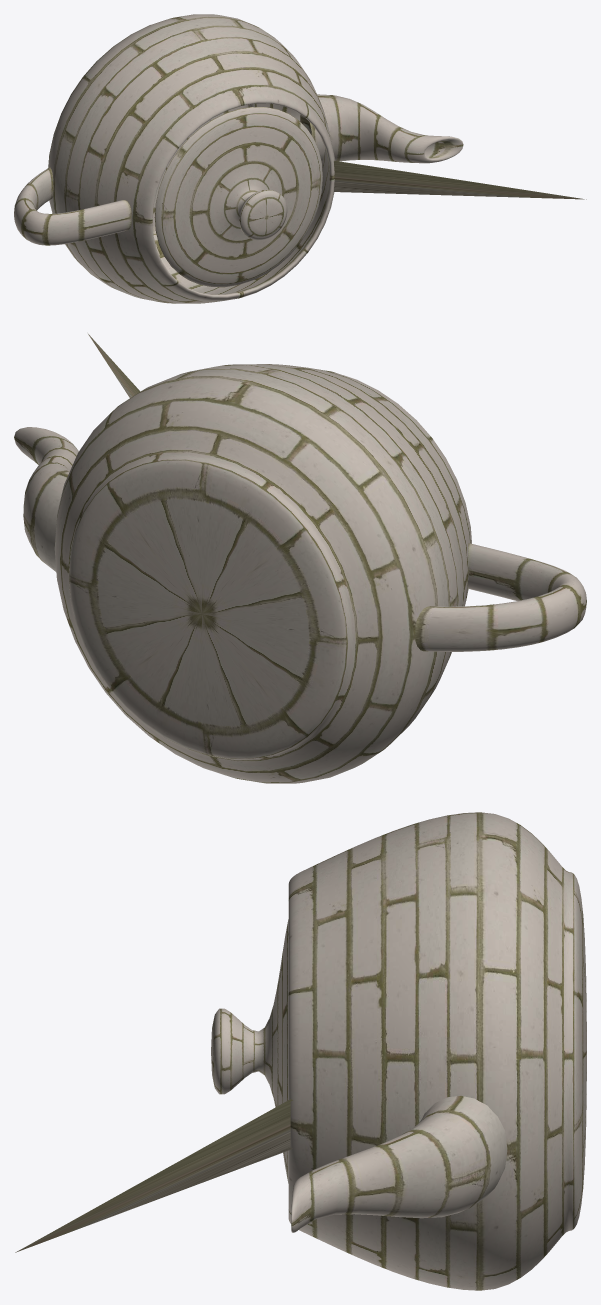
The model's file is teapot2.obj.
The picture shows the model from 3 angles, top to bottom: view 1: azimuth 30°, elevation 25°; view 2: azimuth 150°, elevation 25°; view 3: azimuth 270°, elevation 25°; orthographic projection. The views are drawn at different scales.
Parts seen in each view (by area): view 1: Teapot001; view 2: Teapot001; view 3: Teapot001.
Part boxes in pixels (box(x1,y1,x2,y2)): Teapot001: box(14, 14, 586, 303); Teapot001: box(14, 334, 586, 783); Teapot001: box(15, 812, 586, 1290).
Bounding box in the file's own units: 35 × 20 × 24.
Materials: 1 (1 with a texture image).
